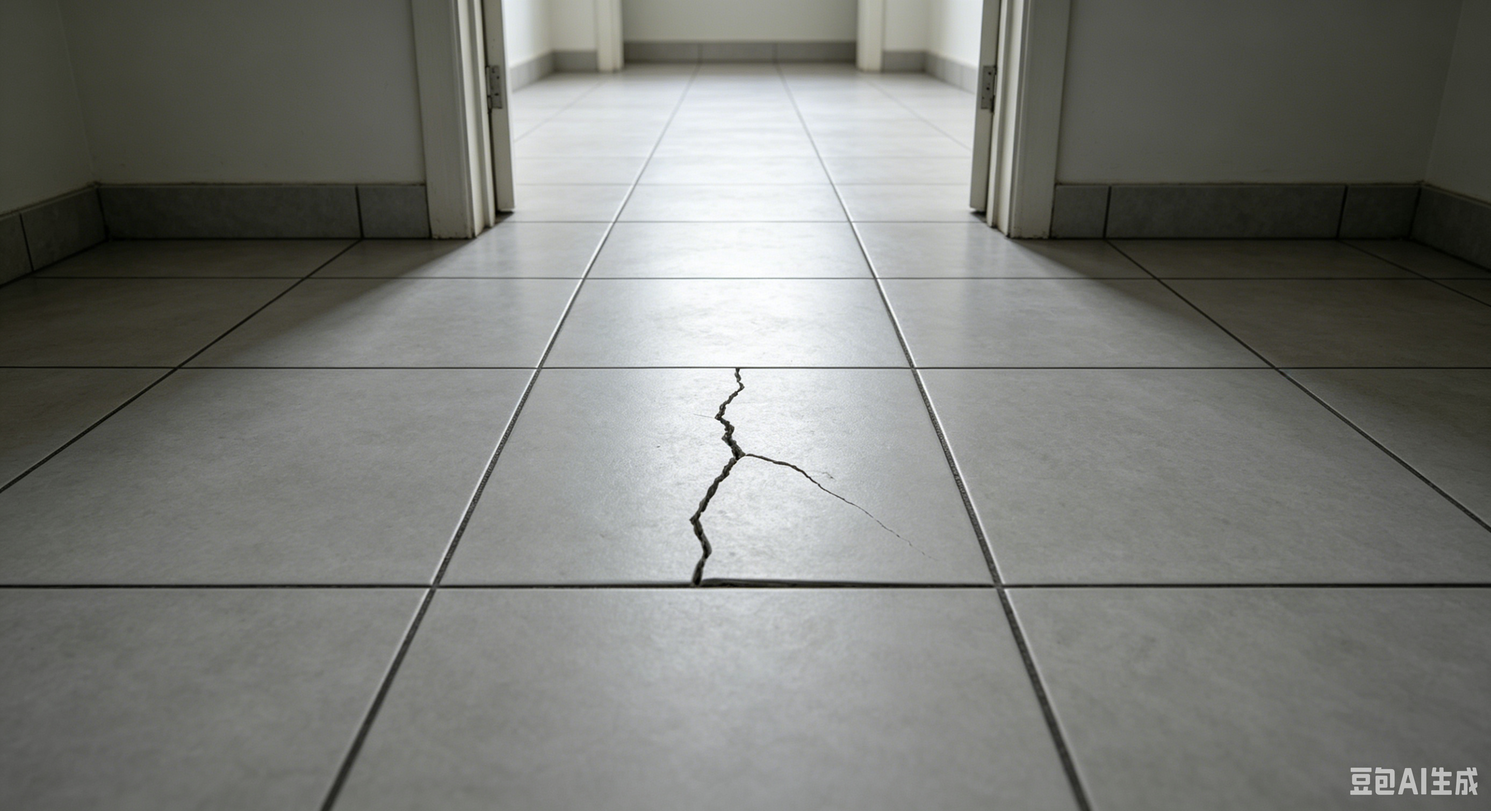floor_defect: (681, 361, 761, 589), (760, 441, 876, 516), (864, 508, 973, 566)
